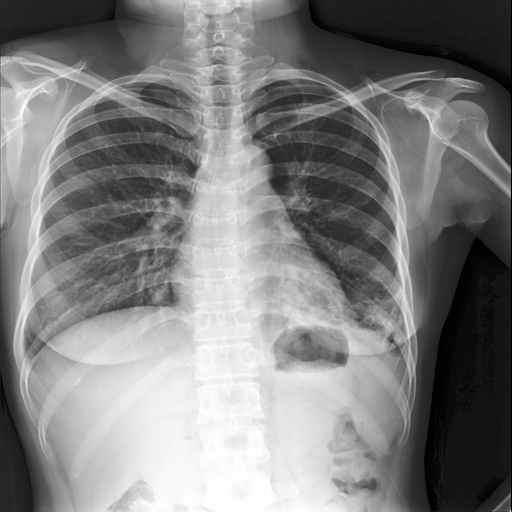Calcification: (385, 338, 412, 370)
Cardiomegaly: (279, 218, 393, 330)
ILD: (286, 257, 404, 336), (365, 282, 403, 343)
Other lesion: (365, 282, 403, 343)
Pleural effusion: (385, 338, 412, 370)
Pleural thickening: (286, 257, 404, 336)
Pneumothorax: (365, 282, 403, 343), (72, 143, 99, 159)
